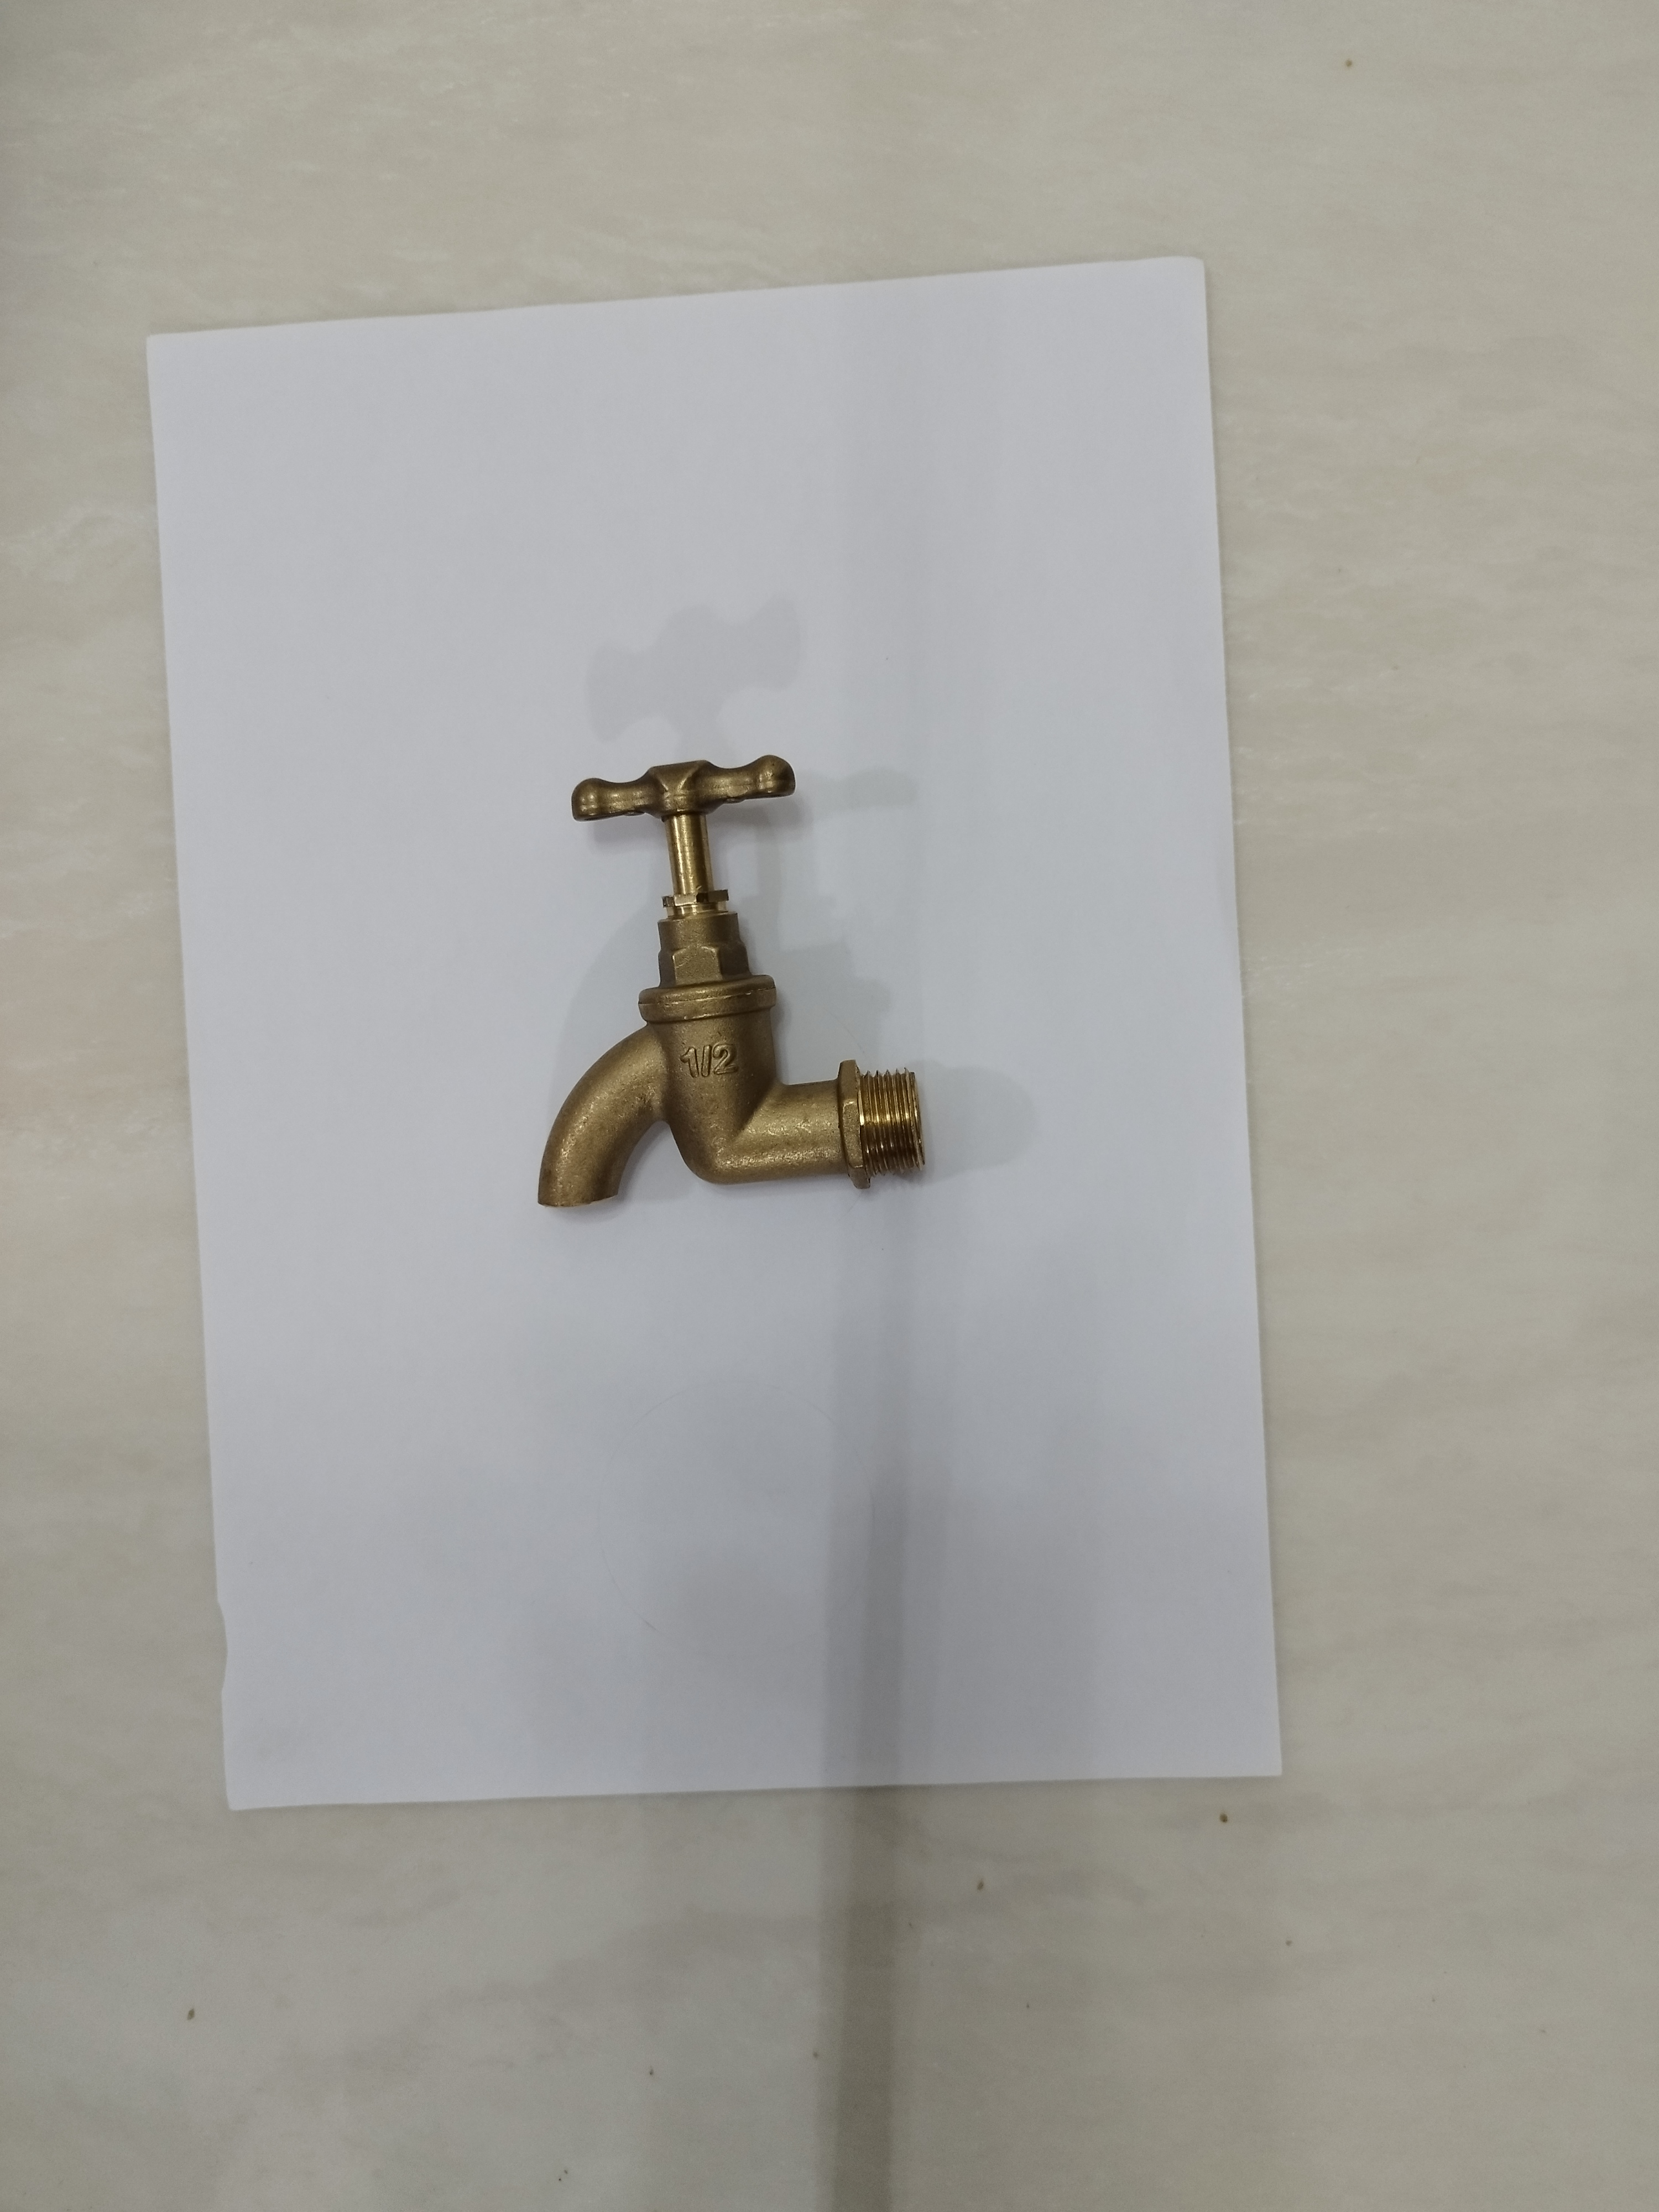brass_water_tap: (467, 744, 951, 1233)
